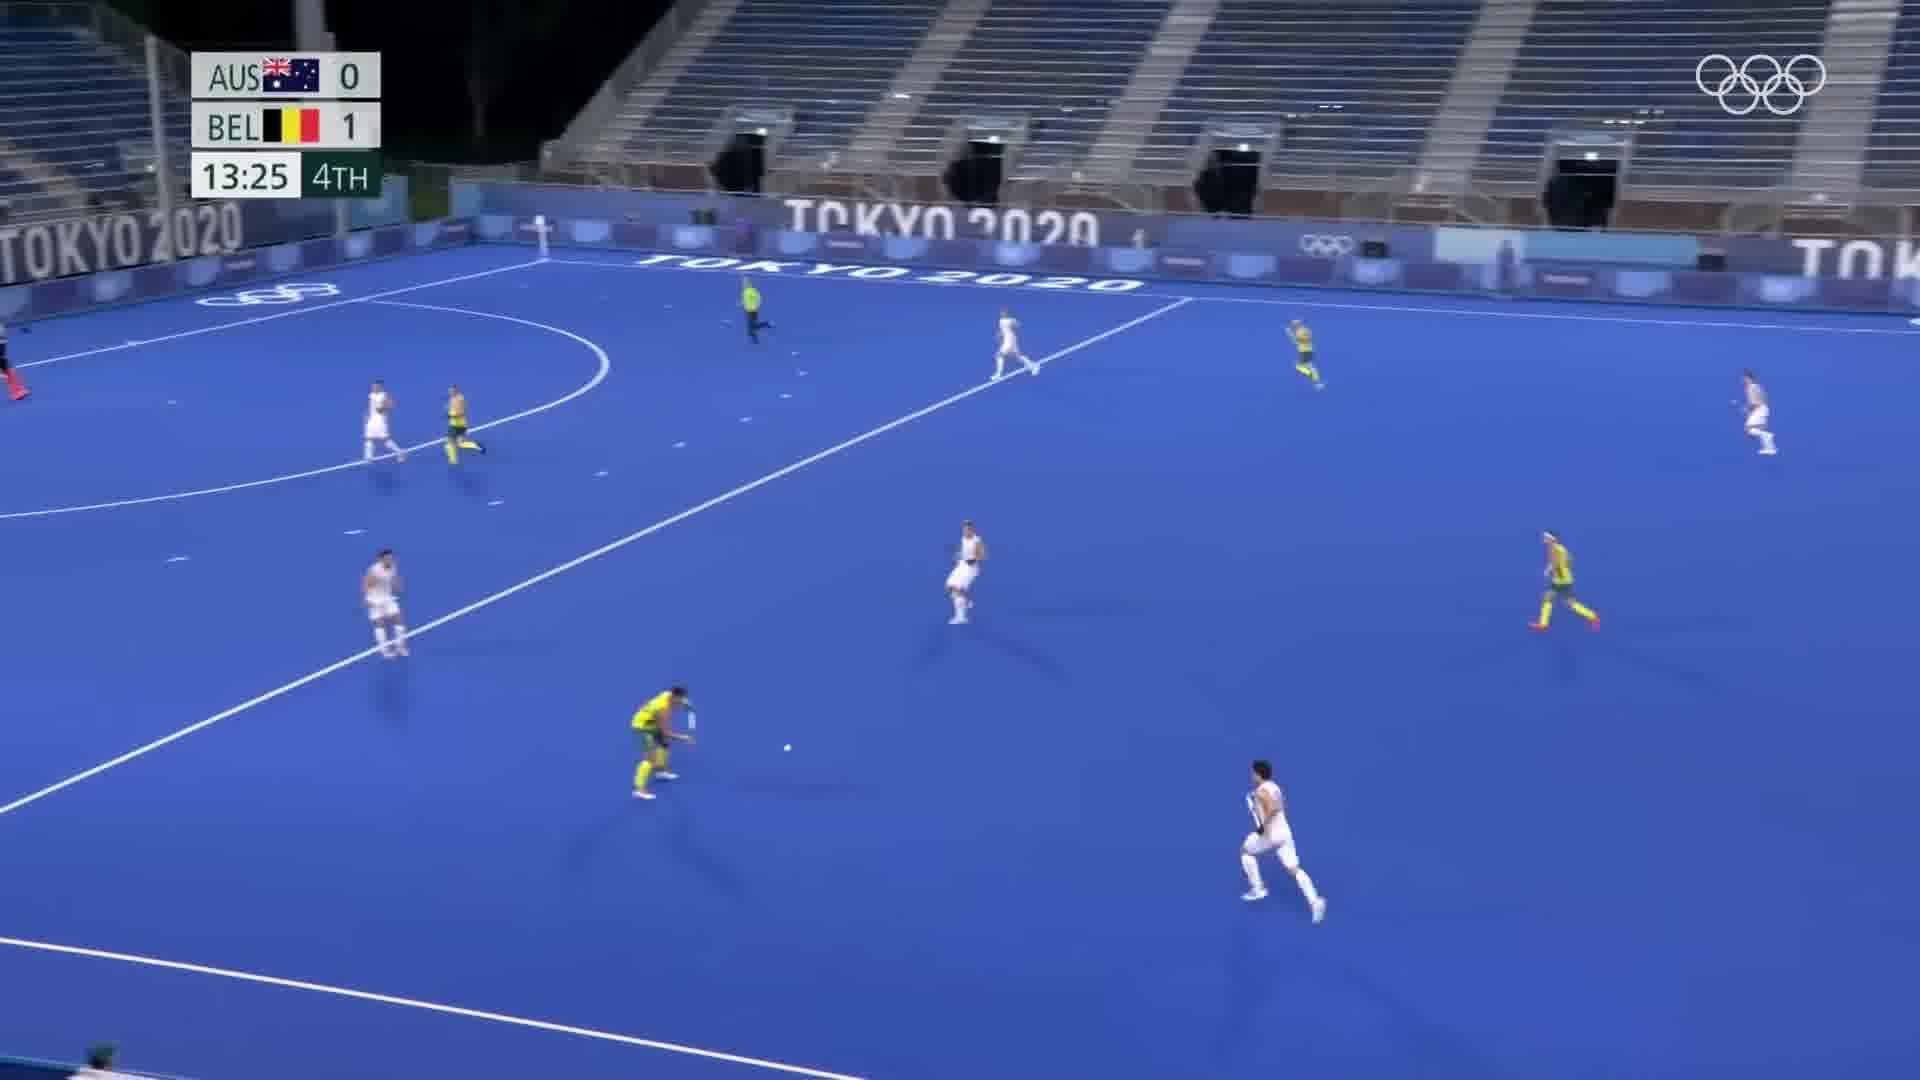ball: (774, 732, 804, 764)
